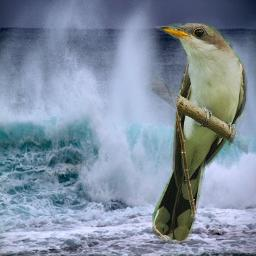Cuckoo: (152, 23, 248, 242)
